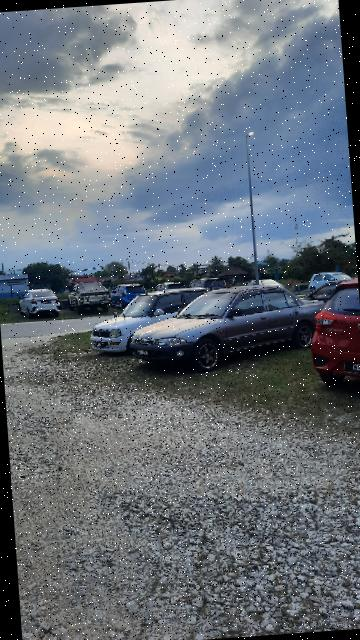License_Plate: (134, 347, 152, 359), (94, 339, 106, 353)
car: (129, 282, 335, 376), (89, 289, 216, 356)
